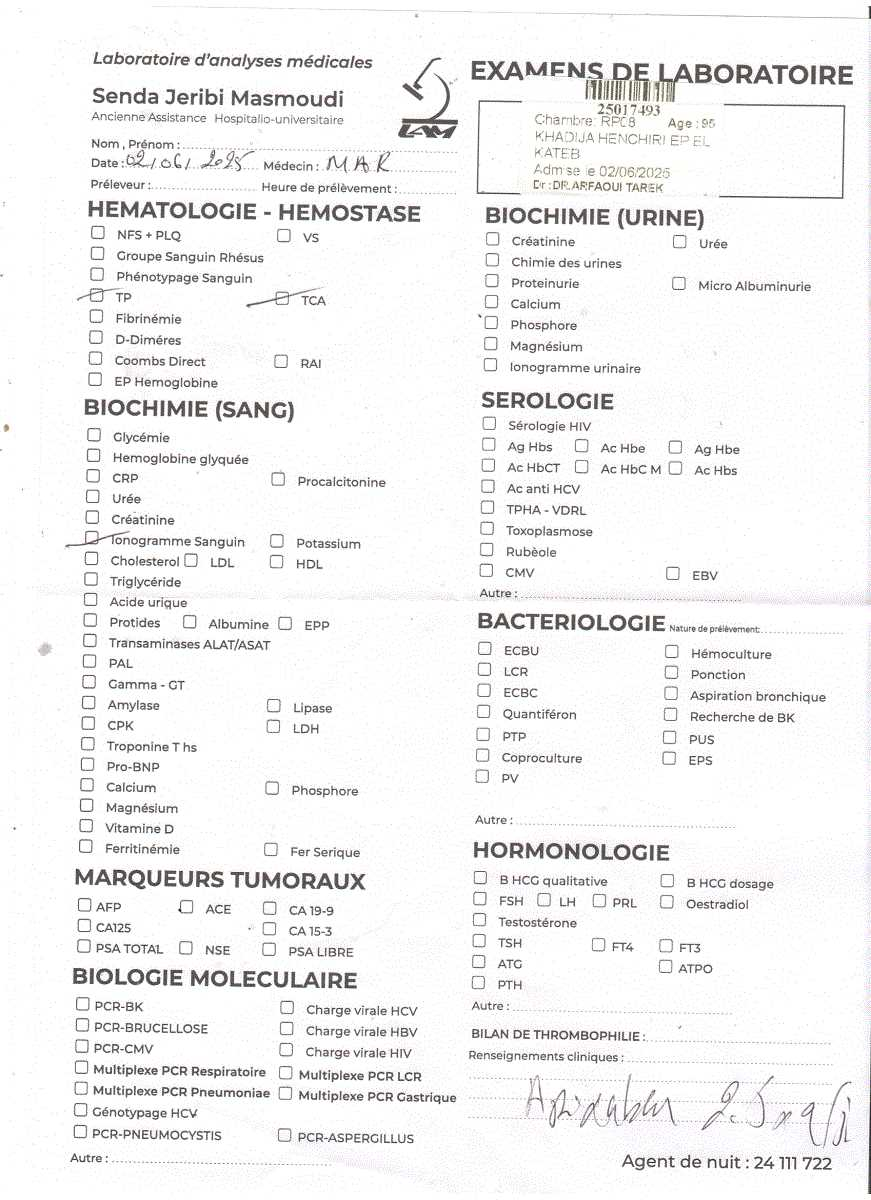zone_analyses: (15, 186, 871, 1200)
zone_date: (92, 147, 259, 172), (595, 162, 677, 181)
zone_patient: (527, 126, 710, 160)
zone_prescripteur: (267, 150, 394, 175), (534, 181, 662, 194)
